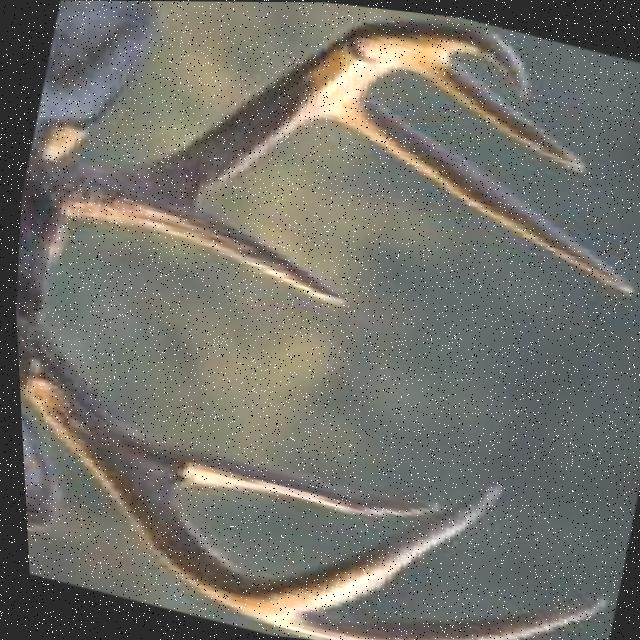L-F: (13, 310, 498, 621)
R-F: (51, 16, 532, 230)
R-G1: (153, 442, 436, 515), (161, 206, 345, 308)
R-G2: (315, 88, 633, 295), (266, 593, 603, 640)
R-G3: (403, 55, 585, 174)
